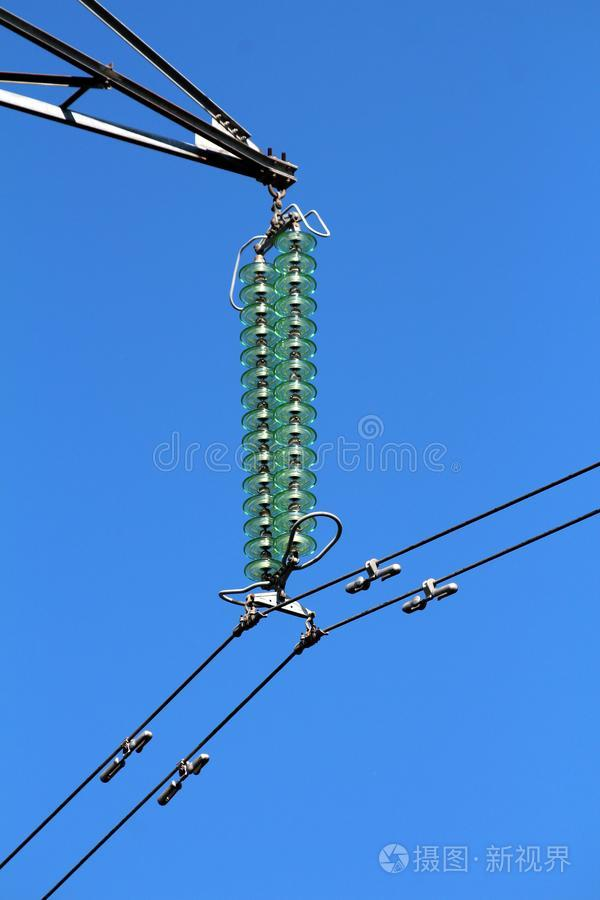insulator: (272, 232, 326, 556), (235, 256, 279, 586)
